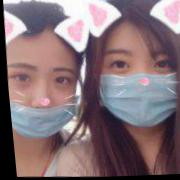OK: (93, 35, 180, 132)
WRONG: (5, 49, 84, 142)
